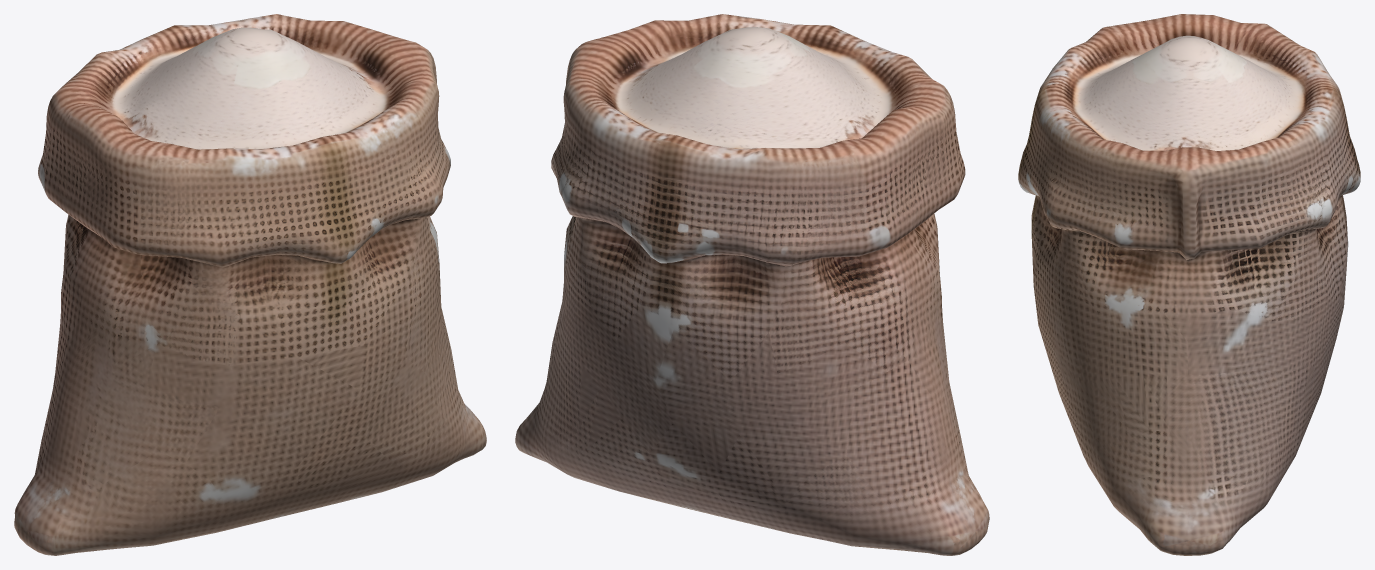
The model's file is MDL_Prop_Common_FlourSack_FlourSack.fbx.
The picture shows the model from 3 angles, left to right: view 1: azimuth 30°, elevation 25°; view 2: azimuth 150°, elevation 25°; view 3: azimuth 270°, elevation 25°; orthographic projection. The views are drawn at different scales.
Visible parts, largest first — view 1: input; view 2: input; view 3: input.
Part boxes in pixels (bbox=[...]): input: bbox=[14, 14, 486, 555]; input: bbox=[515, 14, 989, 555]; input: bbox=[1018, 14, 1360, 555].
Size of the model in its own units: 191 by 189 by 140.
1 material, 1 textured.
